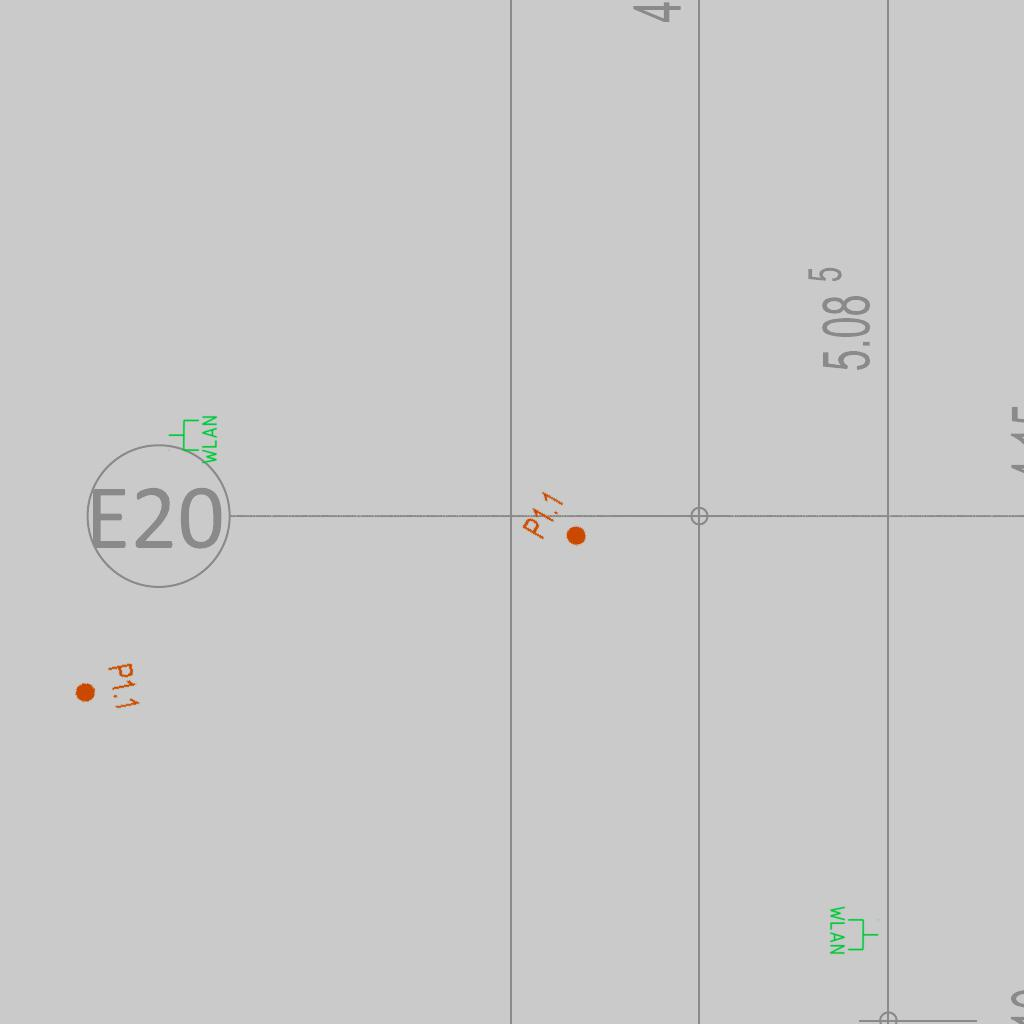Downlight_LED_Einbauleuchten_Flur: (519, 488, 599, 560), (70, 661, 142, 719)
WLAN: (167, 414, 219, 466), (828, 904, 880, 956)
